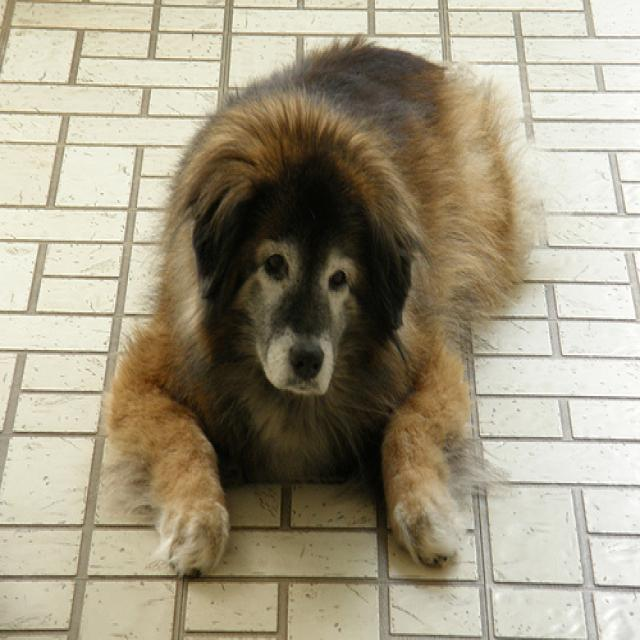dog-leonberger: (102, 17, 536, 585)
